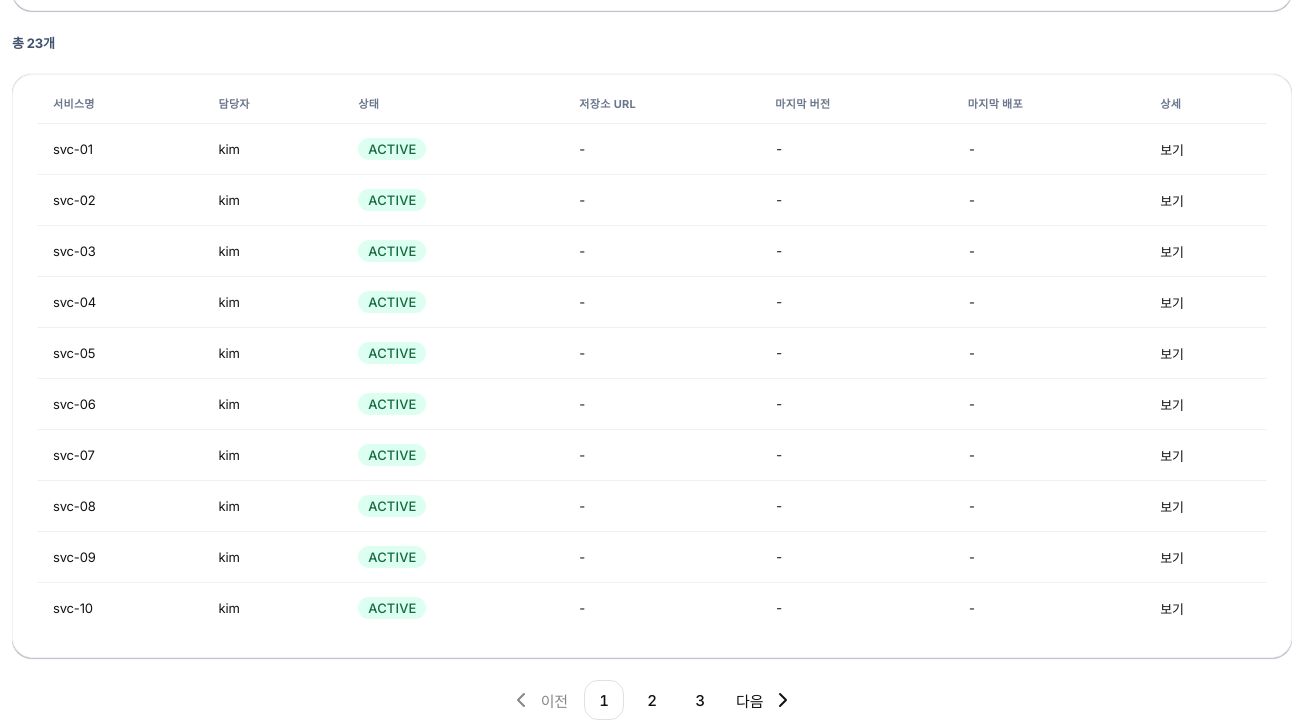
Test: ServiceList client pagination + reset › advances to the next page slice when 다음 is clicked
(page scrolled)
What coordinates should you click on to do the following:
click the link "다음"
I would click on:
 (766, 700)
Its box is [736,688,795,712].
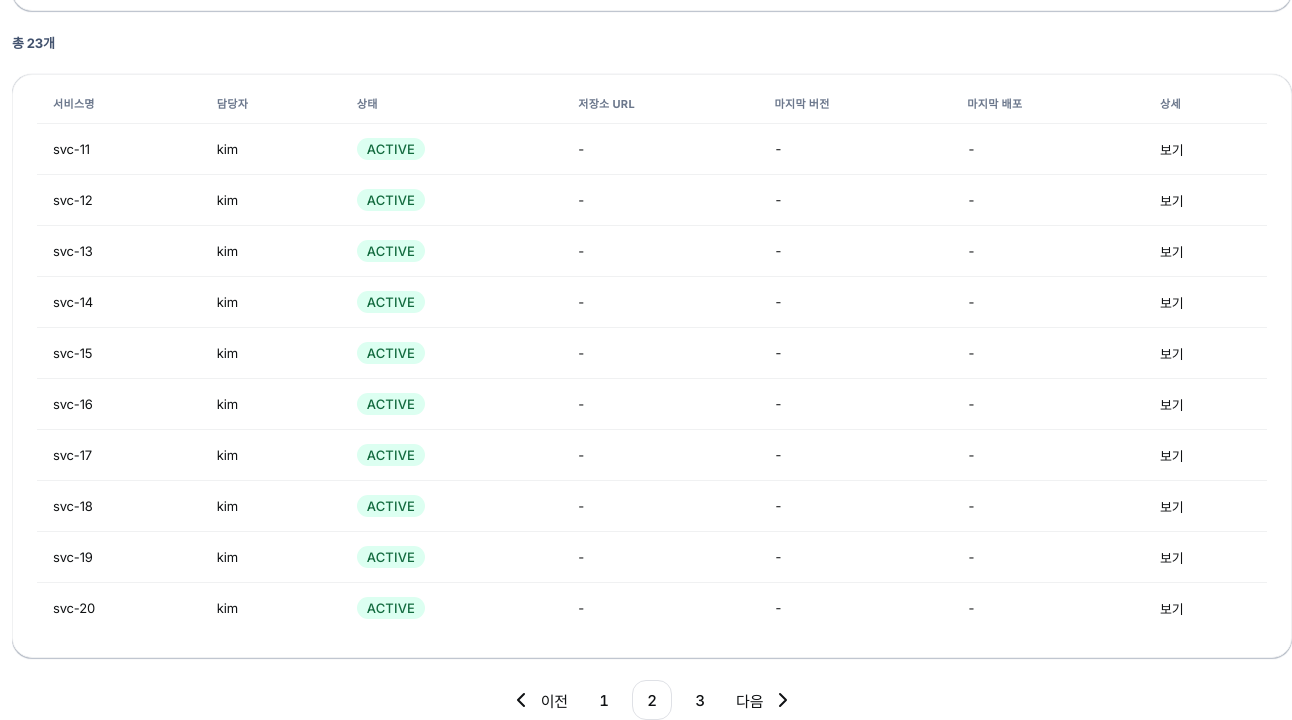
Expected: the link "svc-11" is shown, [53,141,90,157]
Expected: the link "svc-20" is shown, [53,600,95,616]
Expected: the link "svc-01" is gone
